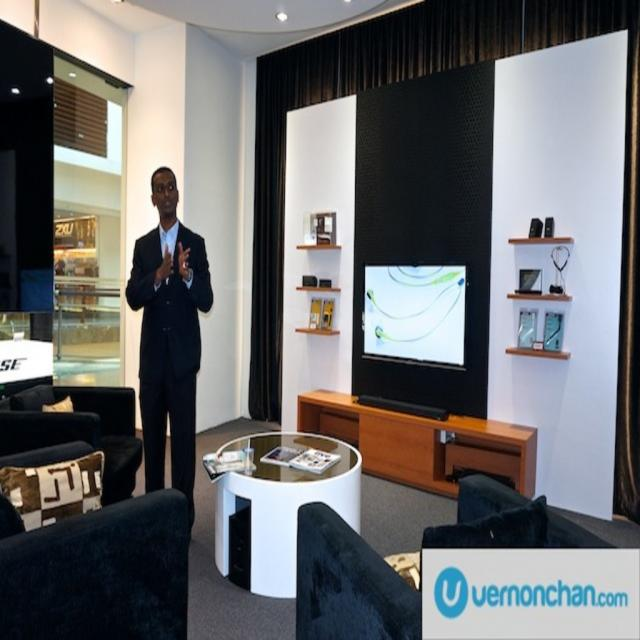desk: (192, 436, 369, 610)
person: (125, 166, 214, 534)
tv: (352, 260, 488, 418)
